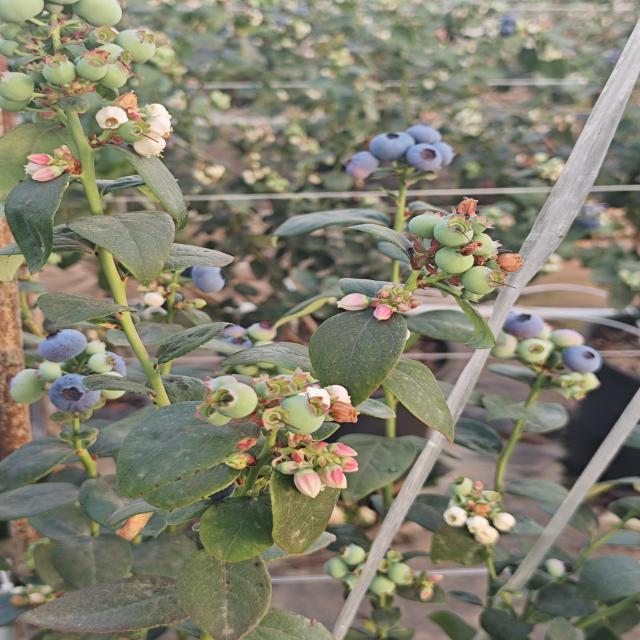ripe: (44, 373, 104, 412), (38, 324, 94, 362), (370, 123, 420, 159), (556, 343, 608, 376), (208, 324, 258, 358), (404, 138, 452, 172), (187, 260, 235, 292), (503, 310, 545, 344), (405, 122, 450, 148)
